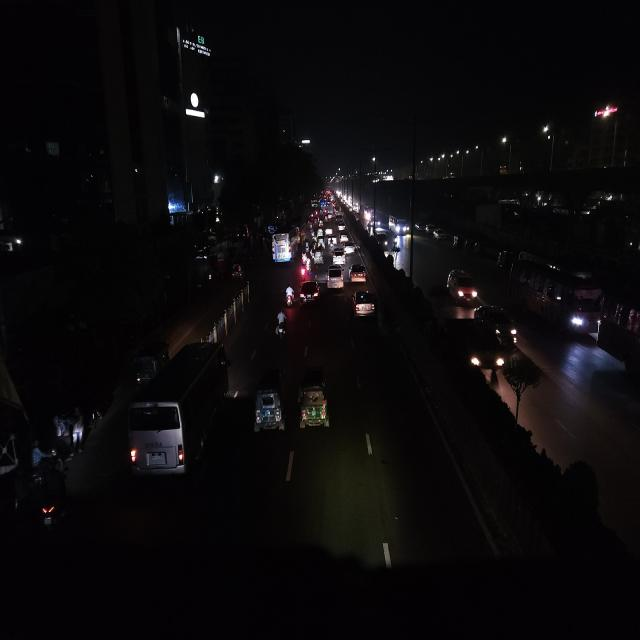bus: (124, 337, 230, 491), (508, 253, 604, 338), (270, 223, 298, 265), (387, 218, 408, 235)
car: (470, 305, 520, 347), (466, 330, 504, 376), (444, 266, 480, 306), (350, 287, 376, 323), (325, 264, 345, 292), (300, 279, 320, 306), (349, 262, 368, 284), (376, 231, 392, 253), (331, 248, 346, 264), (343, 239, 358, 255), (341, 236, 354, 252), (431, 227, 442, 242), (327, 234, 337, 250), (317, 224, 327, 238)
cng: (252, 366, 287, 445), (296, 363, 333, 435), (133, 338, 169, 386), (312, 246, 324, 266)
motorcycle: (28, 447, 70, 541), (274, 308, 288, 342), (284, 282, 295, 309)
